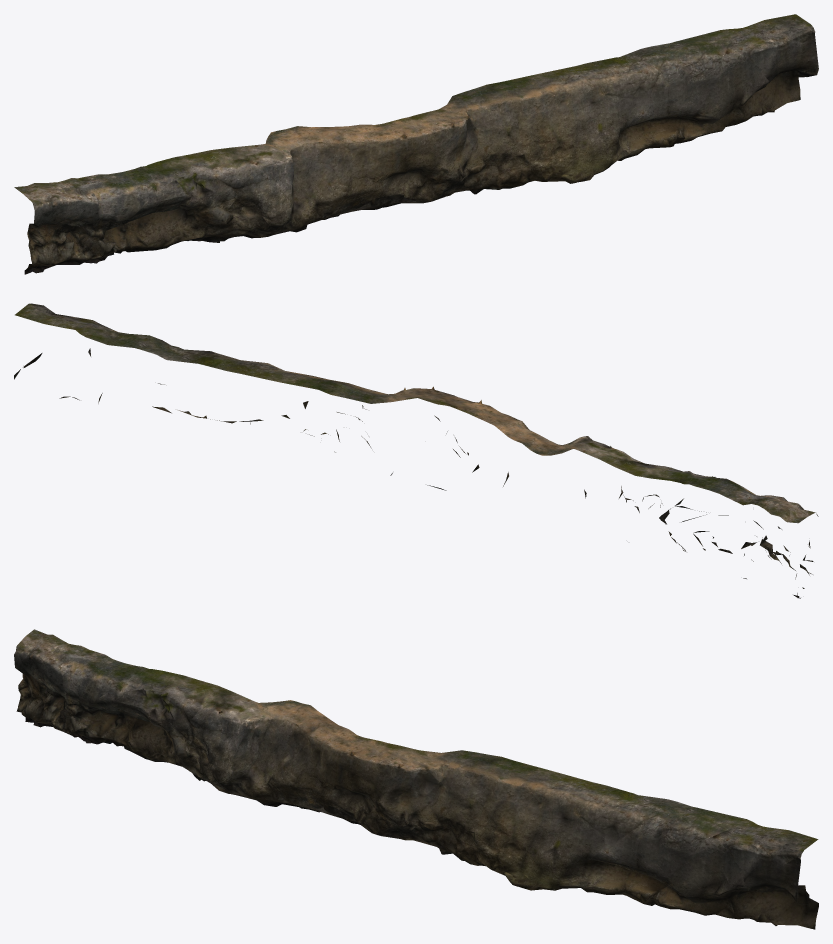
File: coastal-cliff.glb
The picture shows the model from 3 angles, top to bottom: view 1: azimuth 30°, elevation 25°; view 2: azimuth 150°, elevation 25°; view 3: azimuth 330°, elevation 25°; orthographic projection. The views are drawn at different scales.
Size of the model in its own units: 91.96 by 10.2 by 10.93.
Materials: 1 (1 with a texture image).
